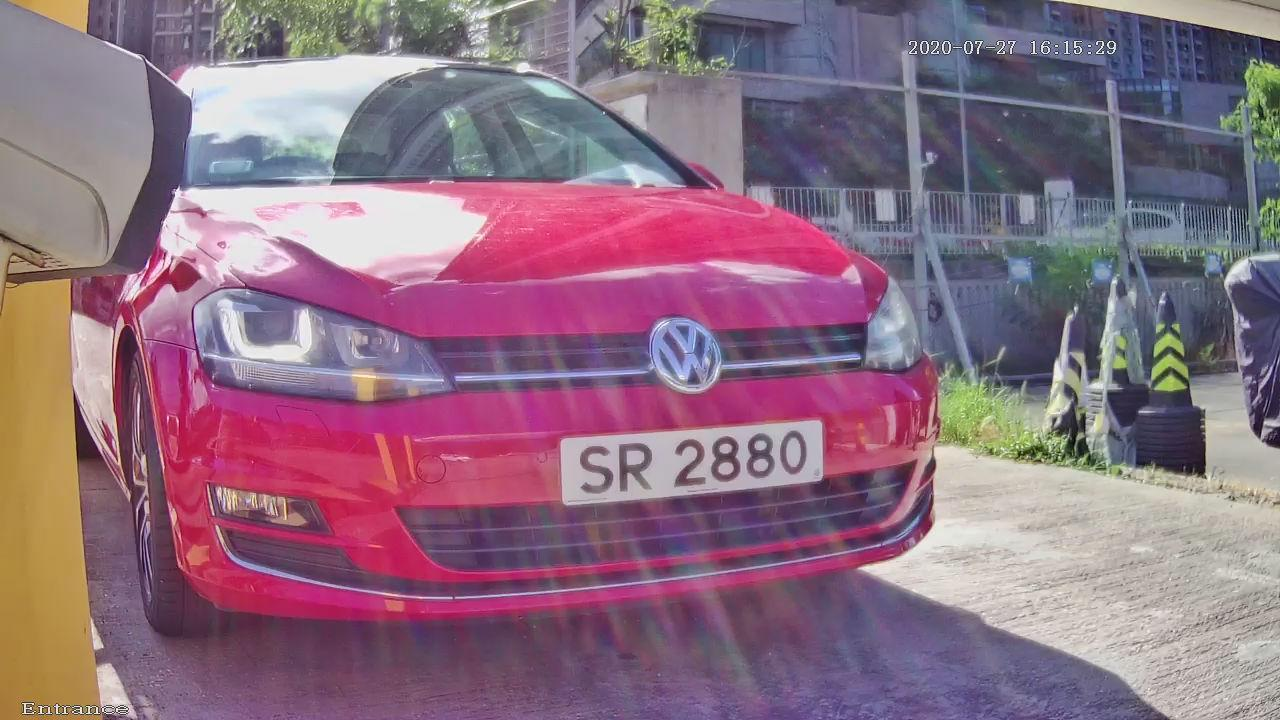privatecar: (52, 7, 1063, 688)
